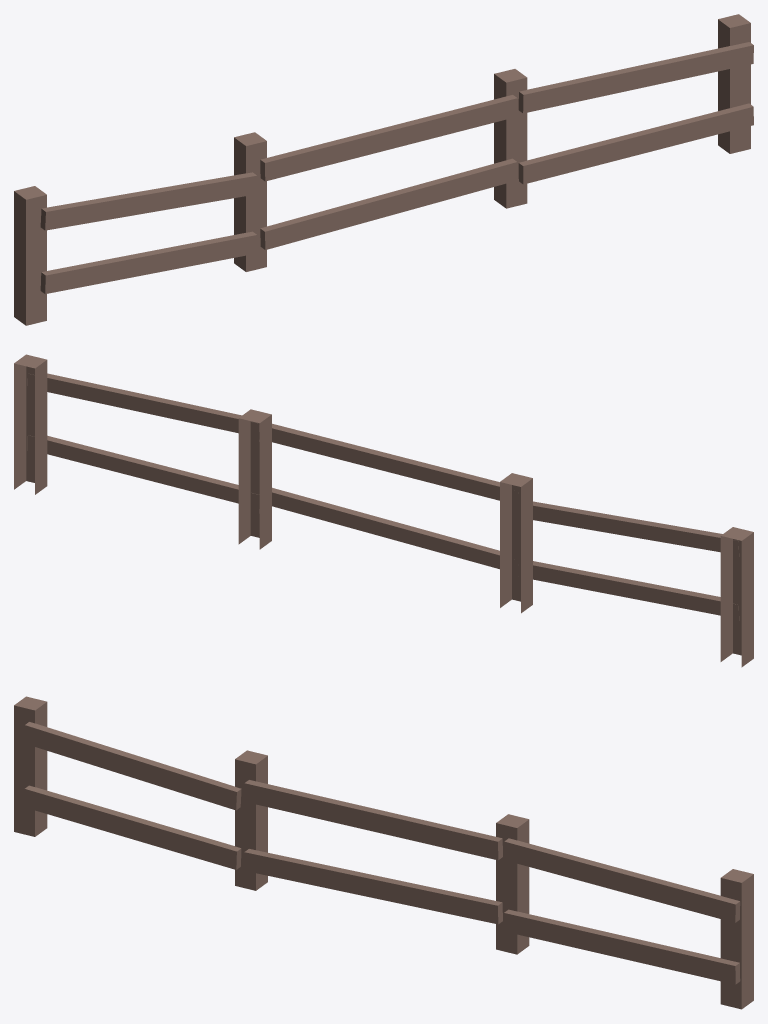
File: Fence.fbx
The picture shows the model from 3 angles, top to bottom: view 1: azimuth 30°, elevation 25°; view 2: azimuth 150°, elevation 25°; view 3: azimuth 330°, elevation 25°; orthographic projection.
Visible parts, largest first — view 1: new_fence_lvl4_012; view 2: new_fence_lvl4_012; view 3: new_fence_lvl4_012.
Boxes of the visible parts, box(x1,y1,x2,y2) form: new_fence_lvl4_012: box(14, 14, 753, 325); new_fence_lvl4_012: box(14, 354, 753, 667); new_fence_lvl4_012: box(14, 696, 753, 1009).
Size of the model in its own units: 10144 by 1685 by 408.
